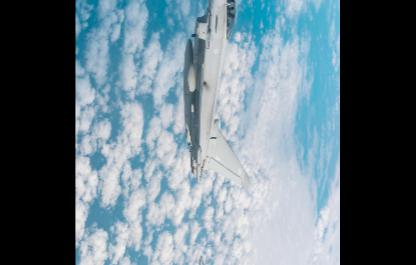E2: (183, 0, 251, 187)
